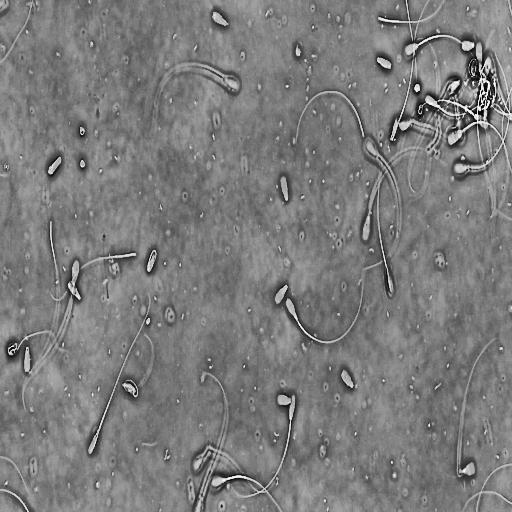coiled-tail: (7, 330, 53, 356), (123, 380, 138, 397), (147, 249, 157, 271), (11, 346, 17, 350)
dirt-particles: (46, 152, 64, 177), (294, 41, 303, 59), (413, 81, 422, 95), (79, 122, 87, 137), (79, 156, 87, 171), (417, 102, 425, 117), (144, 315, 152, 327)
distal-droplet: (423, 100, 489, 129), (464, 105, 468, 111)
folded-tail: (458, 337, 498, 474), (390, 2, 426, 140)
loose-head: (210, 6, 230, 30), (339, 366, 356, 391), (273, 281, 288, 308), (66, 279, 82, 303), (279, 173, 290, 204), (376, 54, 394, 72), (275, 392, 292, 409), (23, 344, 32, 375), (461, 37, 476, 53)
loose-tail: (47, 247, 139, 303), (294, 87, 366, 144), (376, 0, 446, 26), (404, 0, 418, 84)
normal: (86, 289, 152, 457), (277, 255, 370, 353), (226, 390, 298, 501), (454, 332, 503, 481), (455, 52, 510, 174), (151, 61, 242, 132), (387, 0, 427, 145), (447, 121, 512, 172), (376, 147, 397, 301), (209, 472, 284, 512), (399, 26, 478, 63), (2, 322, 52, 363), (121, 377, 140, 400), (145, 245, 159, 276)
